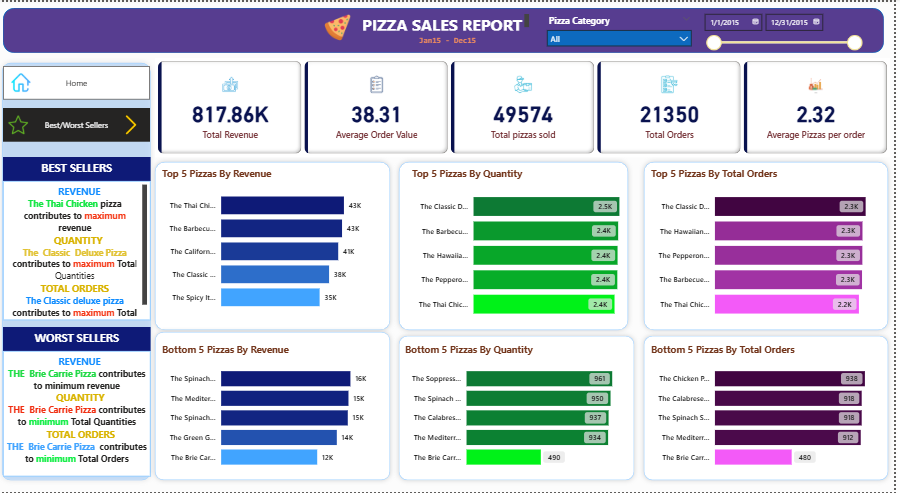

The dashboard page shown, as its layout file describes it:
{"tool":"powerbi","page":{"name":"Best/Worst Sellers","canvas":[1500,820],"ordinal":1},"visuals":[{"type":"cardVisual","fields":{"Data":["pizza_sales.Total Revenue","pizza_sales.Average Order Value","pizza_sales.Total pizzas sold","pizza_sales.Total Orders","pizza_sales.Average Pizzas per order"]},"box":[264.4,93.7,1230,165.7],"z":0},{"type":"shape","box":[10,10,1474.3,75.3],"z":1000},{"type":"textbox","box":[602.4,15.1,292.9,38.5],"z":2000},{"type":"textbox","box":[682.8,50.2,142.2,35.1],"z":3000},{"type":"shape","box":[0,93.3,265,715],"z":4000},{"type":"image","box":[515.4,15.1,108.8,55.2],"z":5000},{"type":"shape","box":[256,259.4,410,297.9],"z":6000},{"type":"textbox","box":[10,260,246.7,40],"z":7000},{"type":"textbox","box":[10,300,246.7,233.3],"z":8000},{"type":"textbox","box":[10,543.3,246.7,40],"z":9000},{"type":"textbox","box":[10,583.3,246.7,210],"z":10000},{"type":"slicer","fields":{"Values":["pizza_sales.pizza_category"]},"box":[910,15,261.7,70],"z":11000},{"type":"slicer","fields":{"Values":["pizza_sales.order_date"]},"box":[1171.7,10,285,71.7],"z":12000},{"type":"shape","box":[664.4,259.4,400,297.9],"z":13000},{"type":"shape","box":[1074.4,259.4,425.1,297.9],"z":14000},{"type":"shape","box":[256,543.9,410,264.4],"z":15000},{"type":"shape","box":[664.4,550.6,410,257.7],"z":16000},{"type":"shape","box":[1074.4,550.6,425.1,257.7],"z":17000},{"type":"barChart","title":"Top 5 Pizzas By Revenue","fields":{"Category":["pizza_sales.pizza_name"],"Y":["pizza_sales.Total Revenue"]},"box":[271.1,276.1,364.8,254.4],"z":18000},{"type":"barChart","title":"Bottom 5 Pizzas By Revenue","fields":{"Category":["pizza_sales.pizza_name"],"Y":["pizza_sales.Total Revenue"]},"box":[271.1,570.7,364.8,222.6],"z":19000},{"type":"barChart","title":"Top 5 Pizzas By Quantity","fields":{"Category":["pizza_sales.pizza_name"],"Y":["pizza_sales.Total pizzas sold"]},"box":[689.5,276.1,381.6,267.8],"z":20000},{"type":"barChart","title":"Bottom 5 Pizzas By Quantity","fields":{"Category":["pizza_sales.pizza_name"],"Y":["pizza_sales.Total pizzas sold"]},"box":[677.8,570.7,381.6,222.6],"z":21000},{"type":"barChart","title":"Top 5 Pizzas By Total Orders","fields":{"Category":["pizza_sales.pizza_name"],"Y":["pizza_sales.Total Orders"]},"box":[1089.4,276.1,394.9,267.8],"z":22000},{"type":"barChart","title":"Bottom 5 Pizzas By Total Orders","fields":{"Category":["pizza_sales.pizza_name"],"Y":["pizza_sales.Total Orders"]},"box":[1089.4,570.7,394.9,222.6],"z":23000},{"type":"pageNavigator","box":[10,106.7,246.7,56.7],"z":24000},{"type":"pageNavigator","box":[10,176.7,246.7,56.7],"z":25000},{"type":"image","box":[200,183.3,46.7,43.3],"z":26000},{"type":"image","box":[10,113.3,60,41.7],"z":27000},{"type":"image","box":[0,183.3,71.7,43.3],"z":28000}]}

Visuals, with their boxes in screenshot pixels (x1, y1, x2, y2), scaled from the page's 1500x820 canvas onto the 900x493 screenshot:
cardVisual - pizza_sales.Total Revenue x pizza_sales.Average Order Value: locate(159, 56, 897, 156)
shape: locate(6, 6, 891, 51)
textbox: locate(361, 9, 537, 32)
textbox: locate(410, 30, 495, 51)
shape: locate(0, 56, 159, 486)
image: locate(309, 9, 375, 42)
shape: locate(154, 156, 400, 335)
textbox: locate(6, 156, 154, 180)
textbox: locate(6, 180, 154, 321)
textbox: locate(6, 327, 154, 351)
textbox: locate(6, 351, 154, 477)
slicer - pizza_sales.pizza_category: locate(546, 9, 703, 51)
slicer - pizza_sales.order_date: locate(703, 6, 874, 49)
shape: locate(399, 156, 639, 335)
shape: locate(645, 156, 899, 335)
shape: locate(154, 327, 400, 486)
shape: locate(399, 331, 645, 486)
shape: locate(645, 331, 899, 486)
"Top 5 Pizzas By Revenue" barChart: locate(163, 166, 382, 319)
"Bottom 5 Pizzas By Revenue" barChart: locate(163, 343, 382, 477)
"Top 5 Pizzas By Quantity" barChart: locate(414, 166, 643, 327)
"Bottom 5 Pizzas By Quantity" barChart: locate(407, 343, 636, 477)
"Top 5 Pizzas By Total Orders" barChart: locate(654, 166, 891, 327)
"Bottom 5 Pizzas By Total Orders" barChart: locate(654, 343, 891, 477)
pageNavigator: locate(6, 64, 154, 98)
pageNavigator: locate(6, 106, 154, 140)
image: locate(120, 110, 148, 136)
image: locate(6, 68, 42, 93)
image: locate(0, 110, 43, 136)
